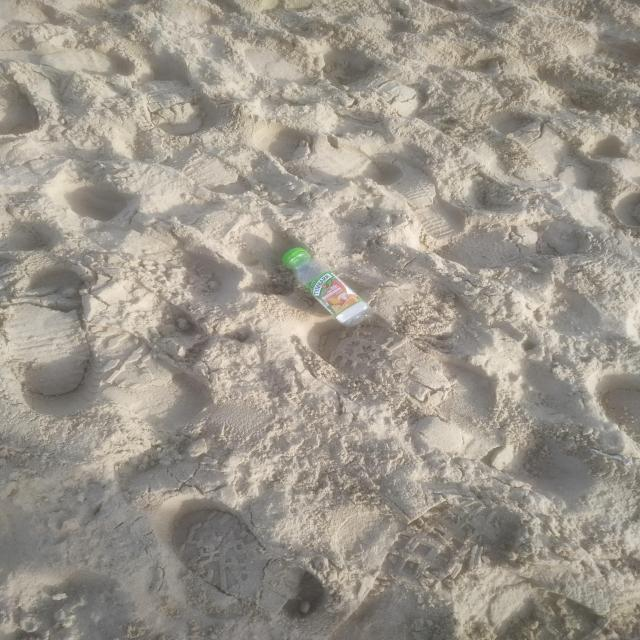litter: (258, 235, 386, 331)
